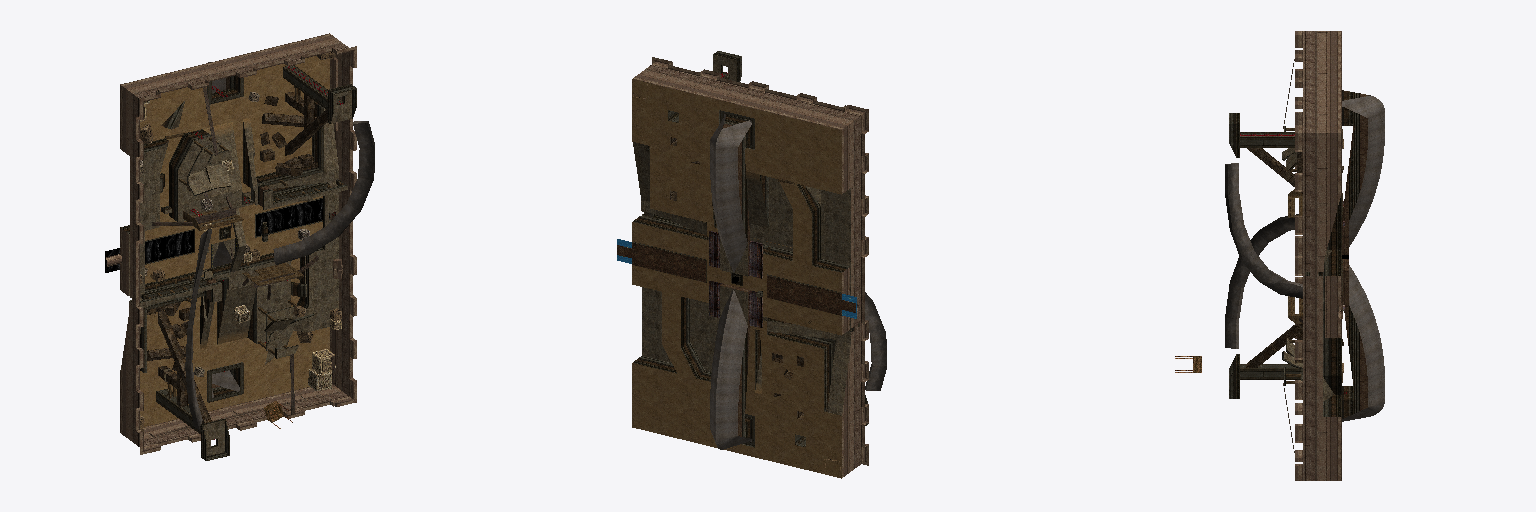
The picture shows the model from 3 angles: view 1: azimuth 30°, elevation 25°; view 2: azimuth 150°, elevation 25°; view 3: azimuth 270°, elevation 25°; orthographic projection.
Parts seen in each view (by area): view 1: BSP_Object.model_0, BSP_Object.model_95, BSP_Object.model_41, BSP_Object.model_94, BSP_Object.model_43, BSP_Object.model_86, BSP_Object.model_75; view 2: BSP_Object.model_0; view 3: BSP_Object.model_0.
Part boxes in pixels (x1,y1,x2,y2): BSP_Object.model_0: (106,33,374,460); BSP_Object.model_95: (256,199,329,235); BSP_Object.model_41: (297,308,341,406); BSP_Object.model_94: (105,230,193,272); BSP_Object.model_43: (248,92,316,166); BSP_Object.model_86: (188,146,231,195); BSP_Object.model_75: (149,391,320,436); BSP_Object.model_0: (617,51,886,478); BSP_Object.model_0: (1225,31,1384,480).
Size of the model in its own units: 2048 by 2912 by 1555.
Materials: 34 (34 with a texture image).